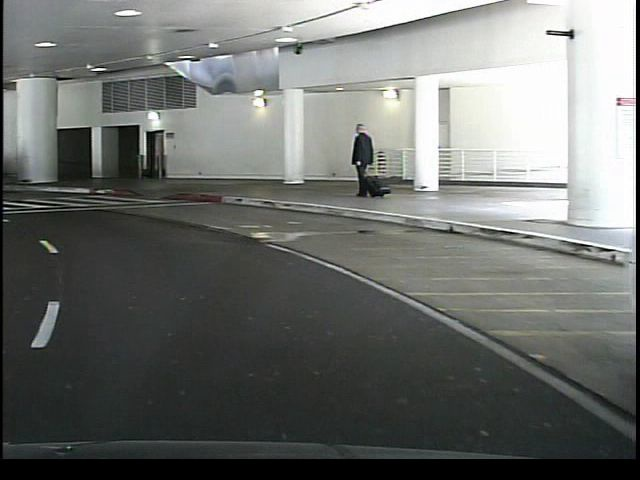person: (343, 121, 374, 199)
